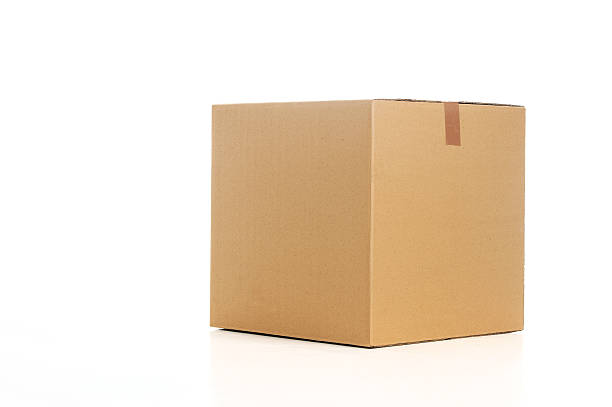Rec_Paper: (192, 76, 546, 356)
